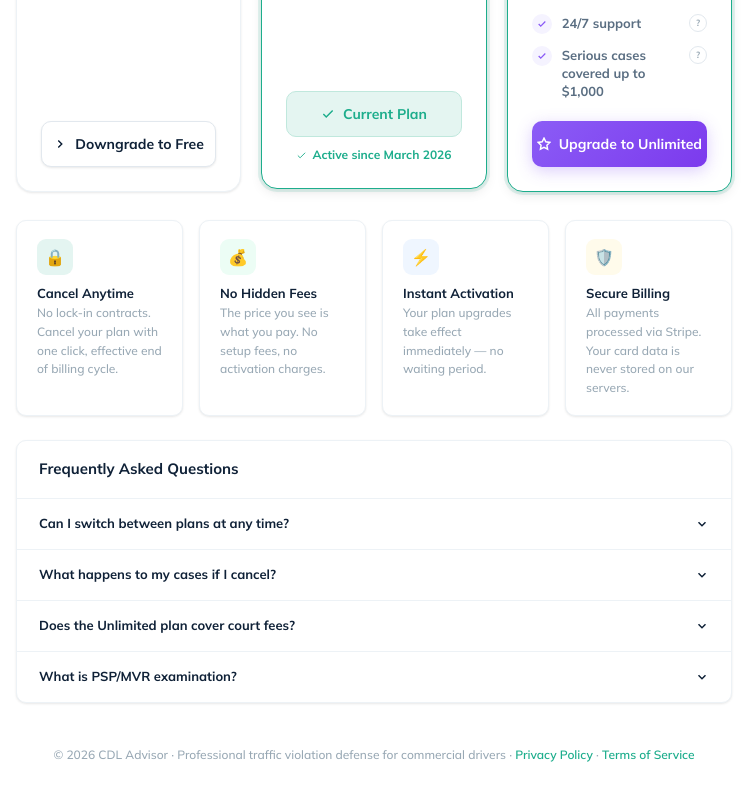
Scenario: SubscriptionManagementComponent › FAQ accordion › should only show one answer at a time
(page scrolled)
Click the button with class "faq-item" that starts with "Can I switch between plans at any time?" at (164, 523), box [17,499,731,550]
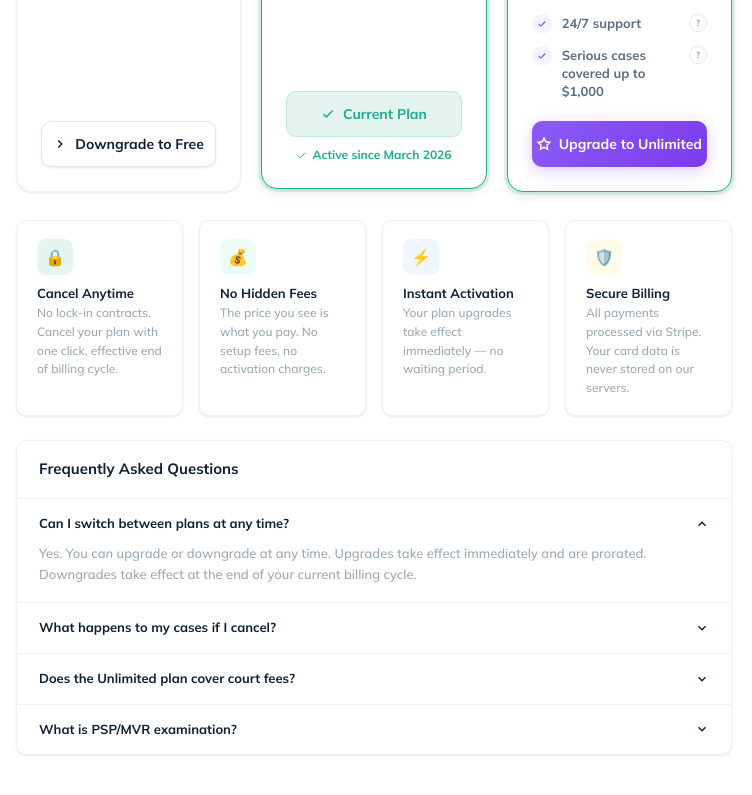
Click the button with class "faq-item" that starts with "What happens to my cases if I cancel?" at (158, 627), box [17,603,731,654]
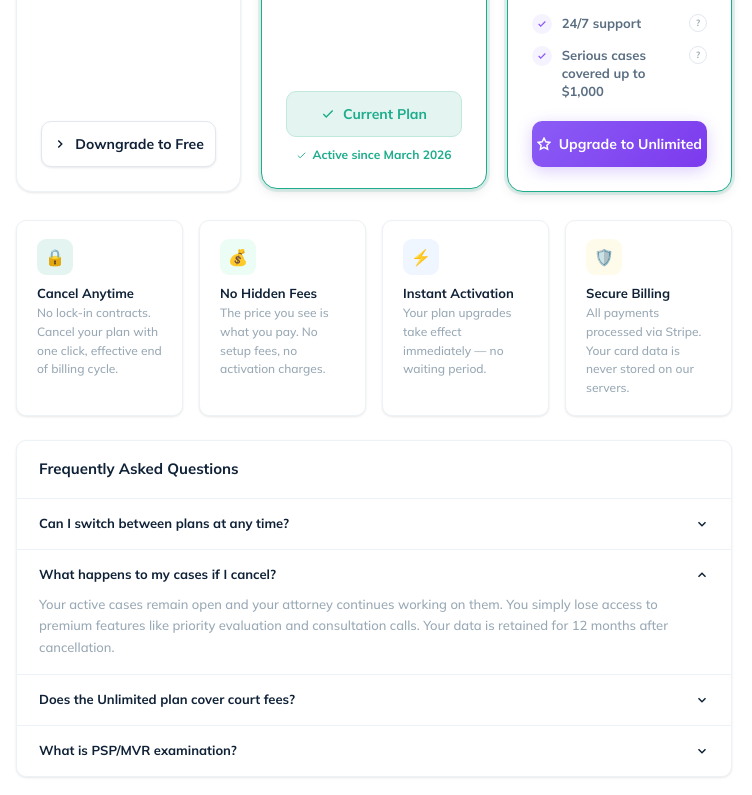
Expected: the number of elements with class "faq-a" is 1, [39,594,709,658]
Expected: the text with class "faq-a" shows "active cases remain open", [39,596,668,655]
